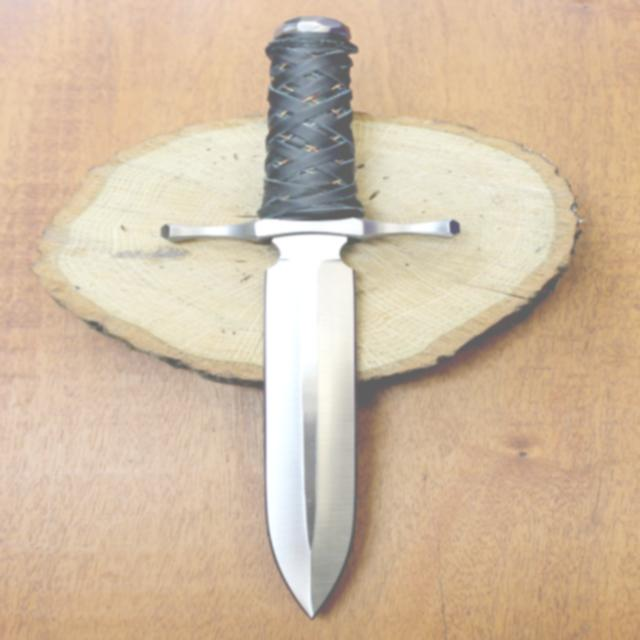short sword: (122, 0, 478, 636)
